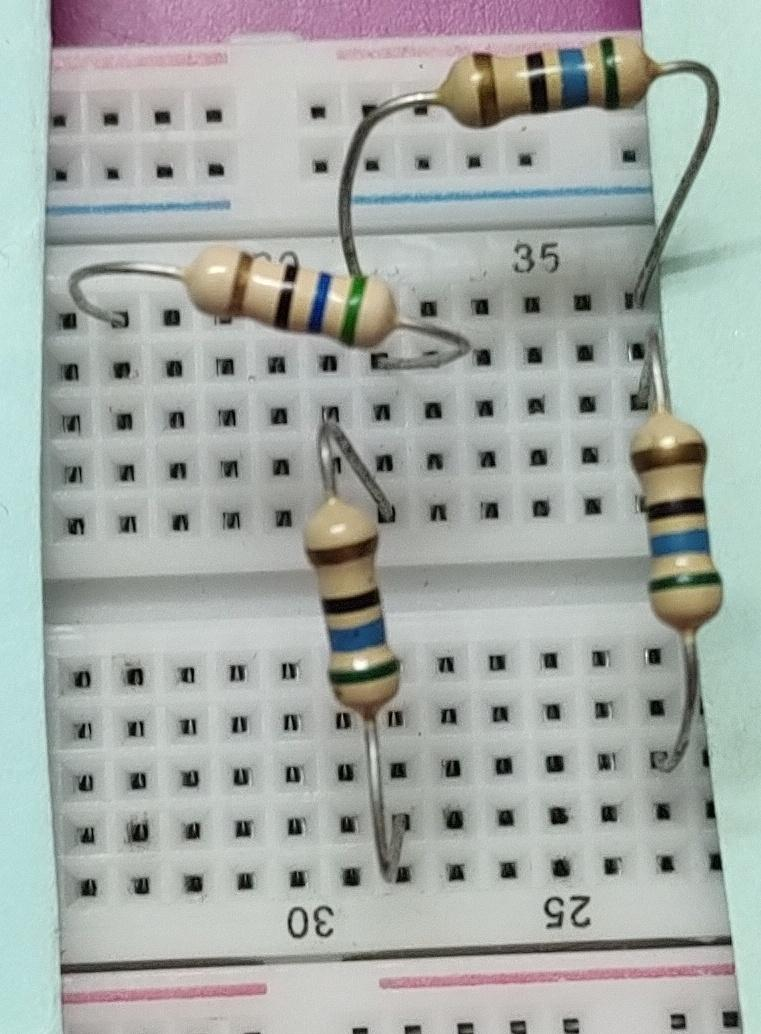resistor: (181, 225, 445, 377), (279, 471, 424, 744), (431, 27, 684, 147), (623, 401, 742, 650)
